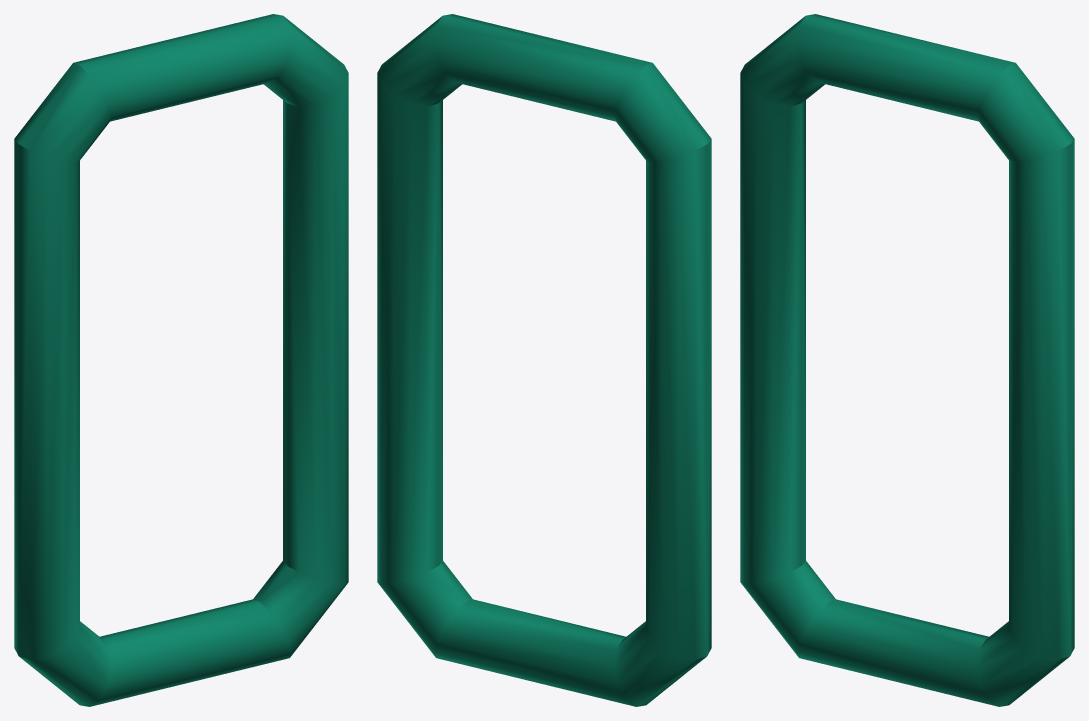
File: Bullet.fbx
3 views of the same model, side by side, from view 1: azimuth 30°, elevation 25°; view 2: azimuth 150°, elevation 25°; view 3: azimuth 330°, elevation 25° (orthographic).
Parts seen in each view (by area): view 1: Bullet; view 2: Bullet; view 3: Bullet.
Part boxes in pixels (x1=…): Bullet: x1=14, y1=14, x2=348, y2=706; Bullet: x1=377, y1=14, x2=711, y2=706; Bullet: x1=740, y1=14, x2=1074, y2=706.
Size of the model in its own units: 0.4063 by 0.7629 by 0.0712.
